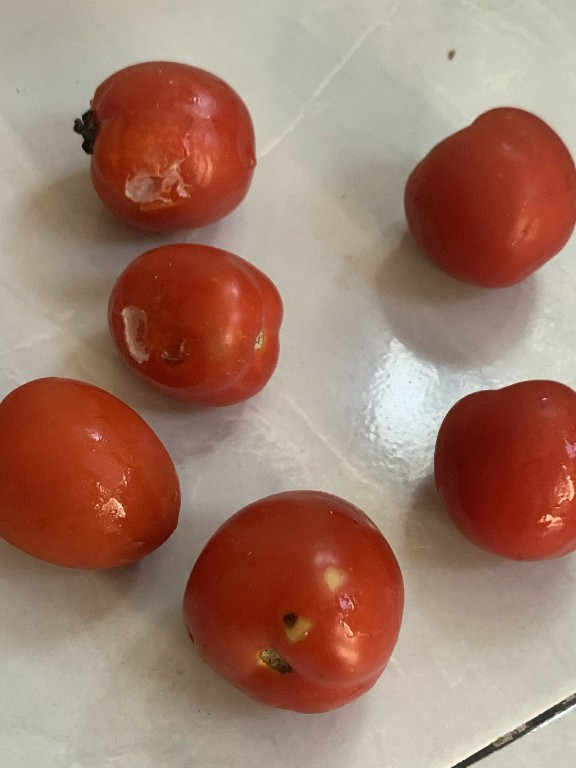NG: (164, 482, 422, 726), (68, 38, 262, 238), (87, 230, 294, 415)
OK: (0, 346, 192, 586), (382, 88, 575, 301), (423, 365, 575, 582)
